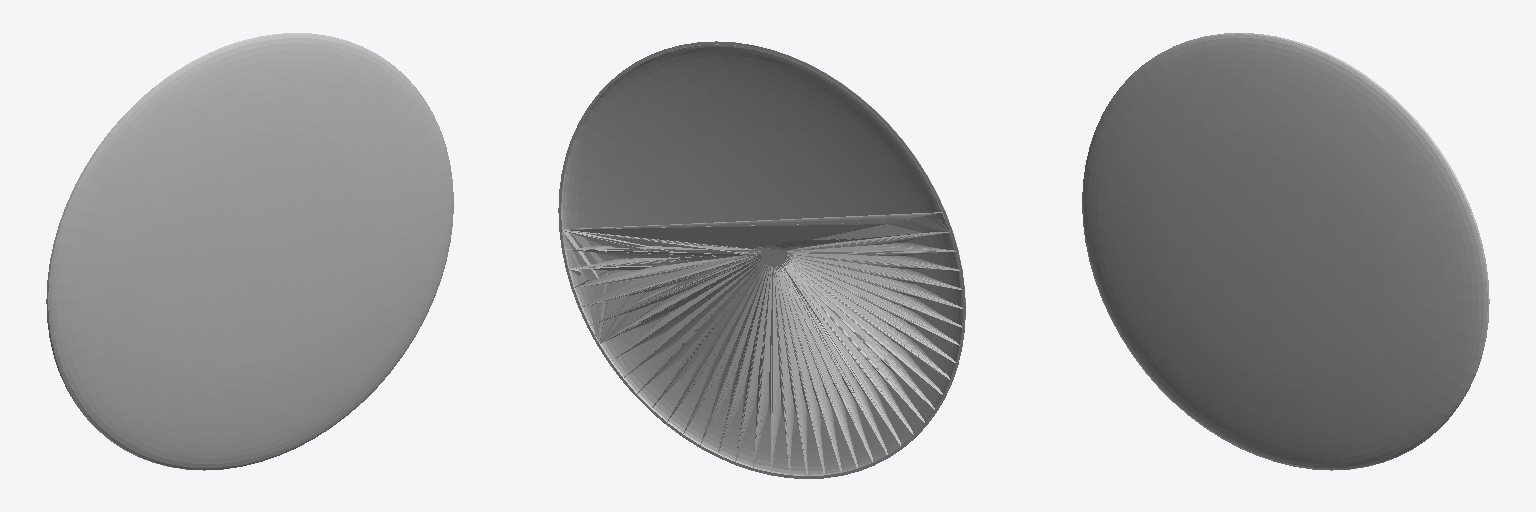
File: clock.obj
3 renders of one model, left to right at view 1: azimuth 30°, elevation 25°; view 2: azimuth 150°, elevation 25°; view 3: azimuth 330°, elevation 25°, orthographic.
Parts seen in each view (by area): view 1: glas; view 2: glas, Torus01, Line03, Line02; view 3: glas.
Boxes of the visible parts, box(x1,y1,x2,y2) form: glas: box(46, 33, 453, 470); glas: box(558, 41, 965, 478); Torus01: box(563, 212, 962, 474); Line03: box(563, 231, 759, 342); Line02: box(562, 230, 761, 318); glas: box(1082, 33, 1489, 470).
Bounding box in the file's own units: 301 × 301 × 15.14.